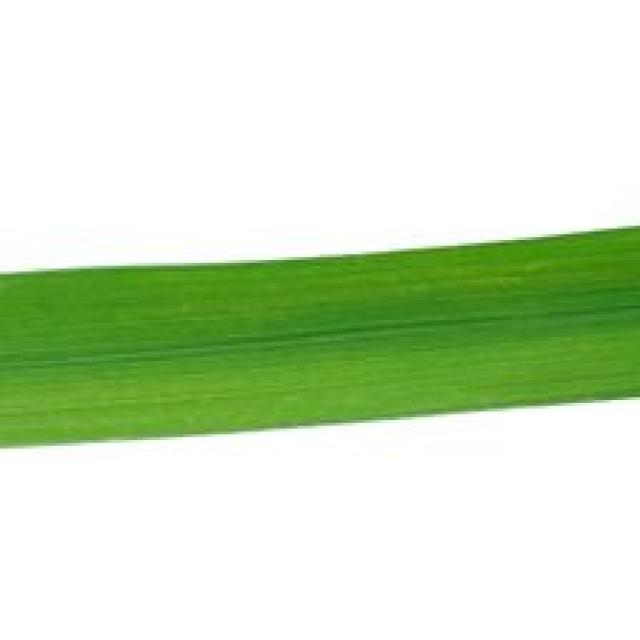Rice___Healthy_Rice_Plant: (0, 226, 637, 450)
